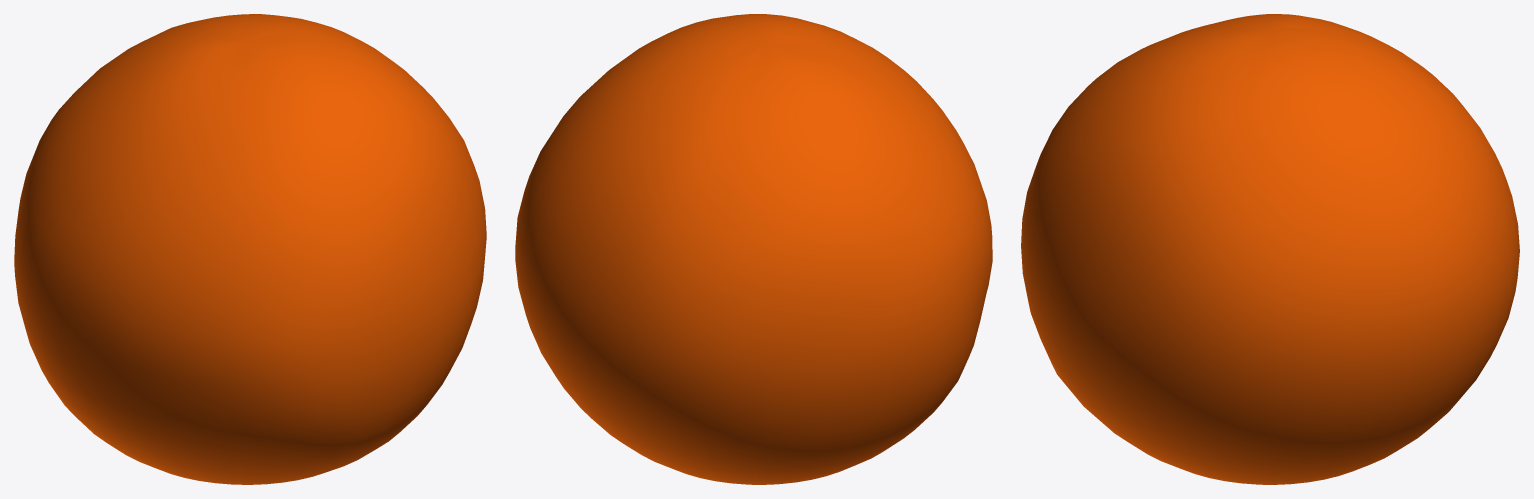
Rendered from orange.fbx.
The picture shows the model from 3 angles, left to right: view 1: azimuth 30°, elevation 25°; view 2: azimuth 150°, elevation 25°; view 3: azimuth 270°, elevation 25°; orthographic projection. The views are drawn at different scales.
Visible parts, largest first — view 1: Sphere; view 2: Sphere; view 3: Sphere.
Part boxes in pixels (x1,y1,x2,y2): Sphere: [14, 14, 486, 484]; Sphere: [515, 14, 992, 484]; Sphere: [1021, 14, 1519, 484].
Bounding box in the file's own units: 84.1 × 81.88 × 86.05.
